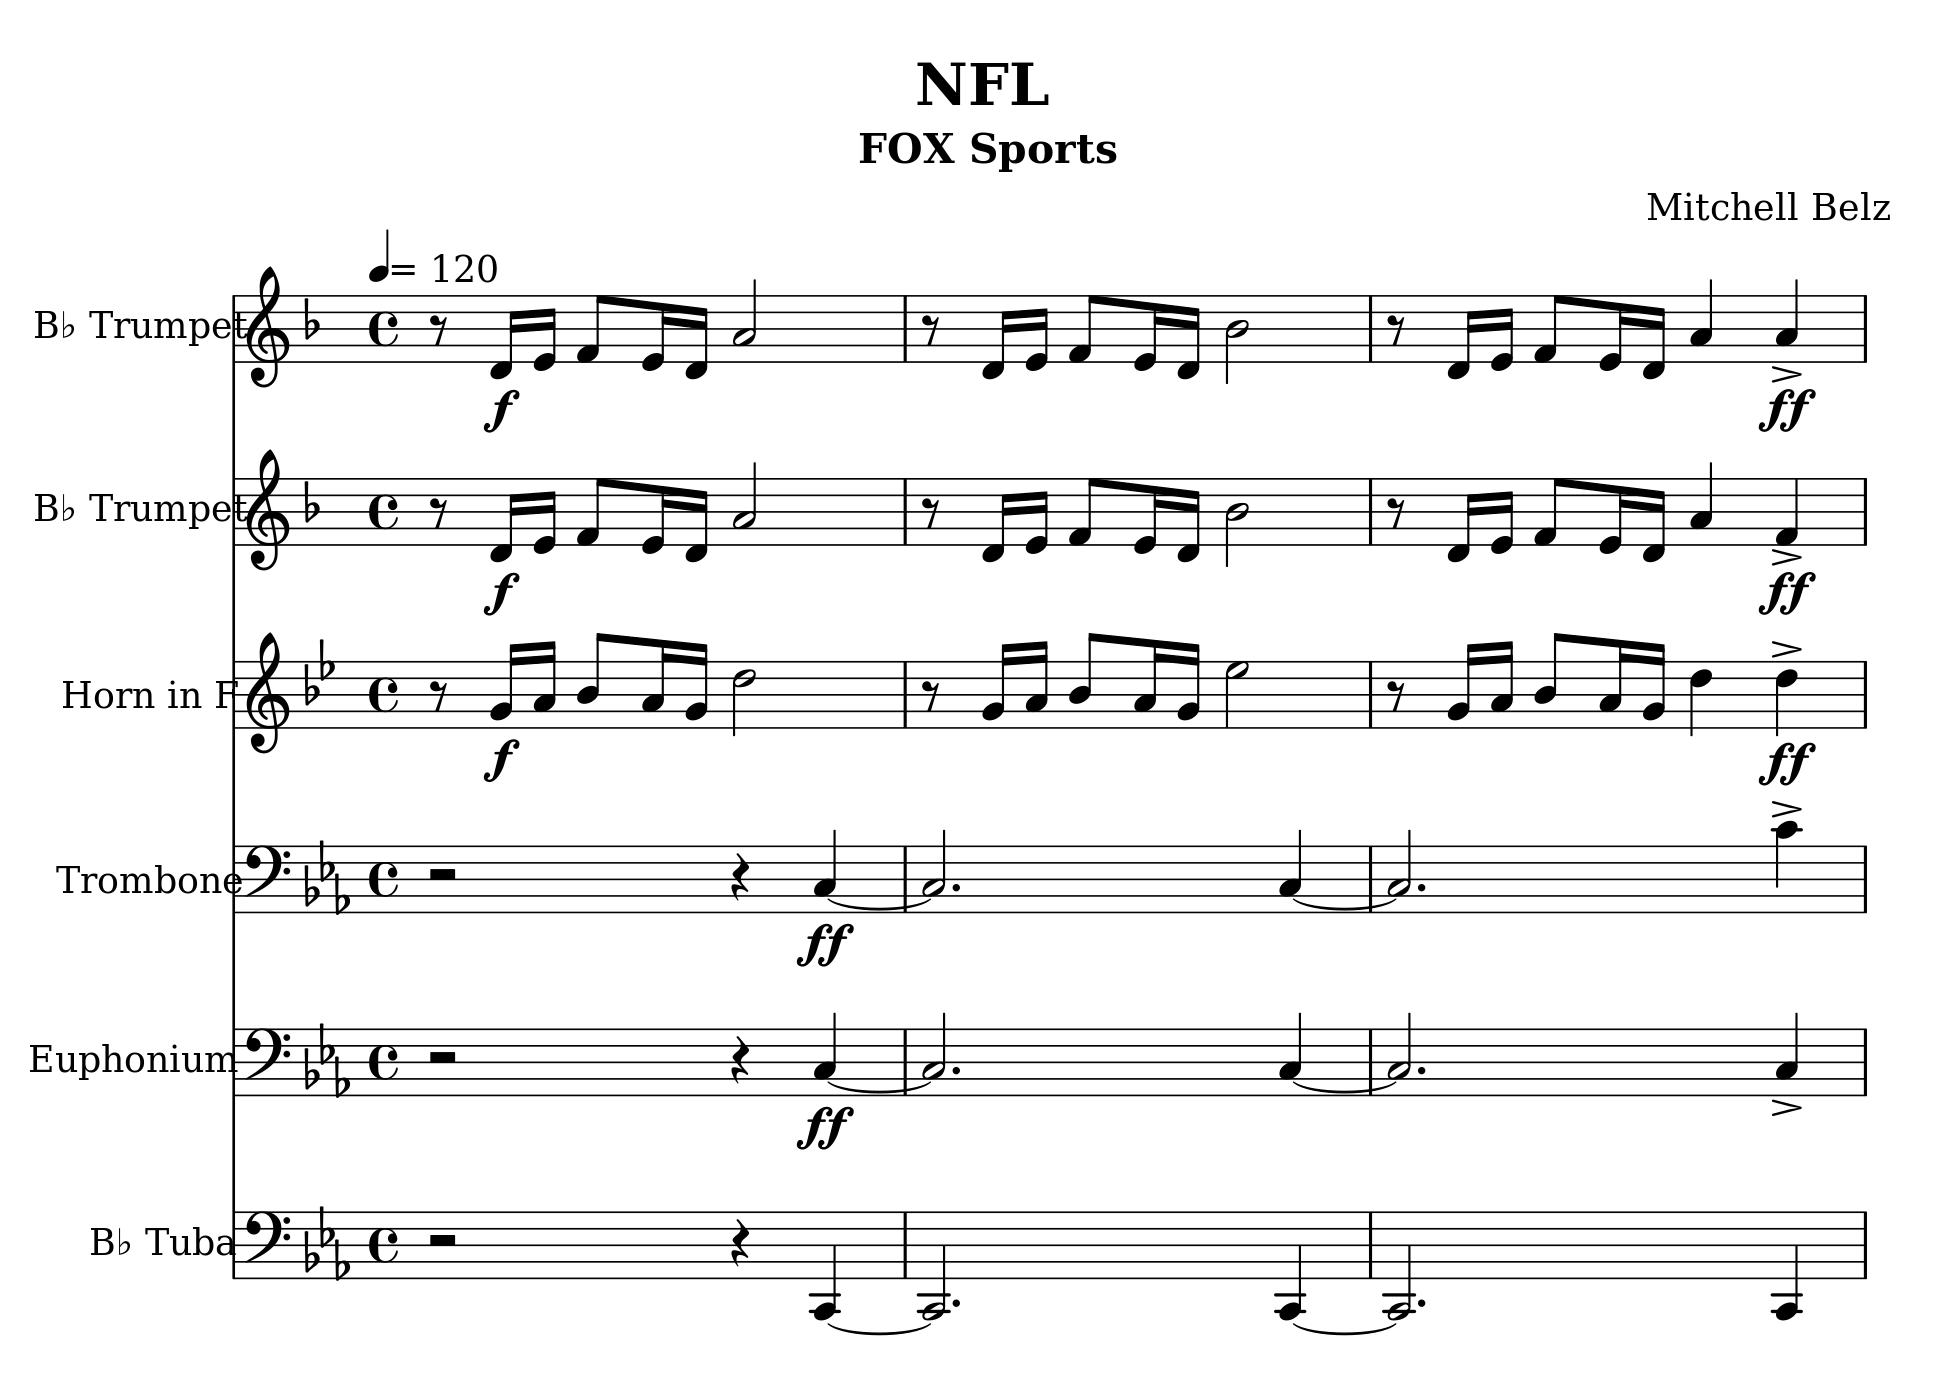0: (475, 250, 498, 283)
1: (430, 250, 448, 283)
16_-1: (487, 292, 520, 381), (981, 292, 1014, 381), (1446, 292, 1479, 381), (981, 475, 1014, 564), (1446, 475, 1479, 564), (487, 475, 520, 562), (682, 292, 709, 382), (682, 475, 709, 565), (1641, 292, 1668, 381), (1641, 475, 1668, 564), (1176, 292, 1201, 381), (1176, 475, 1201, 564)
16_0: (639, 292, 672, 373), (1131, 292, 1164, 373), (1596, 292, 1629, 373), (639, 475, 672, 556), (1131, 475, 1164, 556), (1596, 475, 1629, 556), (1023, 475, 1051, 556), (1488, 475, 1516, 556), (531, 475, 559, 555), (531, 292, 558, 373), (1023, 292, 1050, 373), (1489, 292, 1516, 373)
16_2: (979, 640, 1014, 730), (487, 640, 520, 730), (1446, 640, 1479, 730), (682, 640, 709, 730), (1176, 640, 1203, 730), (1641, 640, 1668, 730)
16_3: (639, 637, 673, 730), (1131, 637, 1165, 730), (1596, 637, 1630, 730), (1023, 637, 1050, 730), (1488, 639, 1515, 730), (531, 639, 556, 730)
2: (451, 252, 475, 283)
2_-4: (916, 1207, 949, 1321), (1383, 1207, 1416, 1321)
2_3: (730, 277, 759, 364), (730, 460, 759, 547), (921, 1009, 948, 1099), (921, 826, 948, 915), (1386, 1009, 1413, 1096), (1386, 828, 1413, 913)
2_4: (1224, 475, 1251, 568), (1224, 294, 1251, 385)
2_6: (730, 658, 756, 738)
2_7: (1224, 658, 1249, 730)
4_-4: (1771, 1207, 1803, 1321), (810, 1207, 841, 1320), (1275, 1207, 1306, 1320)
4_1: (1774, 475, 1800, 547)
4_10: (1773, 819, 1801, 916)
4_3: (811, 1009, 838, 1096), (1689, 277, 1716, 363), (1689, 460, 1716, 546), (1774, 277, 1800, 364), (1278, 1009, 1303, 1096), (1774, 1009, 1800, 1096), (813, 828, 838, 913), (1278, 828, 1303, 913)
4_6: (1773, 658, 1801, 738), (1687, 658, 1714, 739)
8_1: (1066, 475, 1101, 547), (1531, 475, 1566, 547), (574, 292, 607, 364), (1068, 292, 1101, 364), (1533, 292, 1566, 364), (574, 475, 607, 547)
8_4: (574, 630, 610, 730), (1068, 630, 1102, 730), (1533, 630, 1567, 730)
Accent_above: (1770, 636, 1804, 658), (1770, 796, 1804, 817), (1770, 1096, 1804, 1116), (1770, 363, 1803, 382), (1770, 547, 1803, 565)
B_F: (301, 634, 336, 705)
E_F: (301, 838, 351, 916), (301, 1021, 351, 1098), (301, 1204, 351, 1281)
Fclef: (241, 1206, 292, 1279), (243, 1024, 292, 1098), (243, 843, 292, 913)
Flat: (301, 295, 322, 343), (301, 478, 322, 525)
Gclef: (244, 264, 289, 388), (244, 630, 289, 754), (244, 448, 289, 571)
Rests2: (424, 1045, 462, 1066), (424, 1228, 460, 1249), (424, 864, 460, 883)
Rests4: (727, 1216, 751, 1270), (729, 1033, 751, 1086), (729, 850, 751, 901)
Rests8: (427, 678, 450, 712), (919, 678, 942, 712), (427, 312, 448, 346), (919, 312, 940, 346), (1386, 312, 1407, 346), (427, 495, 448, 529), (919, 495, 940, 529), (1386, 495, 1407, 529), (1386, 678, 1407, 712)
Single_barline: (1854, 1027, 1875, 1095), (897, 1210, 915, 1279), (1857, 477, 1875, 544), (1857, 844, 1875, 912), (226, 846, 244, 913), (895, 1027, 913, 1095), (1362, 1027, 1380, 1095), (1362, 661, 1380, 726), (228, 1027, 244, 1096), (1363, 1210, 1380, 1279), (1857, 660, 1873, 727), (897, 844, 913, 912), (1857, 1210, 1873, 1278), (1857, 295, 1873, 361), (1363, 846, 1380, 912), (897, 478, 913, 543), (897, 661, 913, 726), (229, 292, 244, 363), (228, 1210, 243, 1279), (229, 477, 244, 544), (228, 661, 241, 727)
Slur: (823, 1318, 937, 1339), (826, 1078, 933, 1093), (1290, 897, 1401, 910), (826, 897, 934, 910), (1291, 1078, 1396, 1092), (1293, 1321, 1398, 1333)
Speed4: (369, 225, 415, 280)
TimeSig: (367, 291, 403, 363), (364, 472, 400, 544), (364, 655, 400, 727), (367, 843, 403, 915), (367, 1023, 403, 1095), (364, 1209, 400, 1281), (367, 658, 400, 729), (367, 1027, 400, 1098), (367, 478, 400, 547), (367, 1210, 400, 1279), (367, 295, 400, 361), (367, 846, 399, 915)
dot: (949, 1294, 963, 1309), (948, 1063, 963, 1075), (1416, 1294, 1428, 1309), (1414, 880, 1428, 892), (1414, 1063, 1428, 1075), (949, 880, 961, 892)
f: (481, 568, 523, 616), (481, 387, 522, 433), (481, 736, 520, 783)
ff: (1758, 384, 1818, 436), (793, 919, 853, 970), (1756, 568, 1819, 616), (1755, 739, 1818, 786), (795, 1105, 855, 1150)
